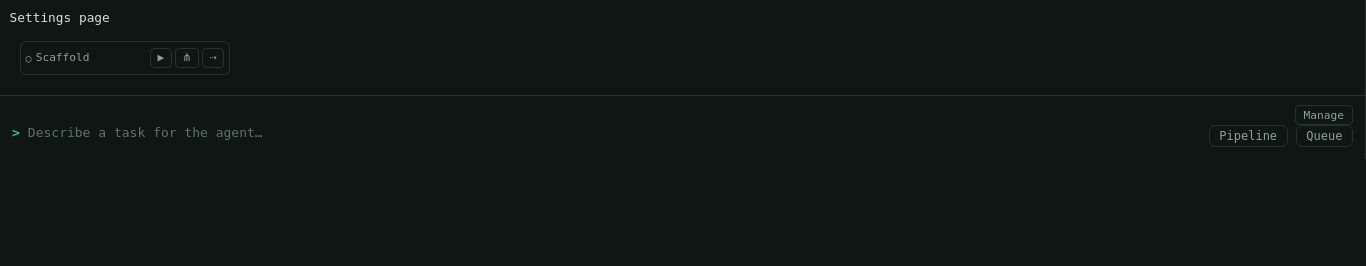
Scenario: Stream › fills the idle slot with the plan canvas once a plan exists
Check: the element named "Plan canvas" is shown, box [10,10,240,85]
Check: the element named "Composer" is shown, box [0,95,1365,159]
Click the button with aria-label "Trace Scaffold".
click(86, 58)  # box [25,52,147,64]
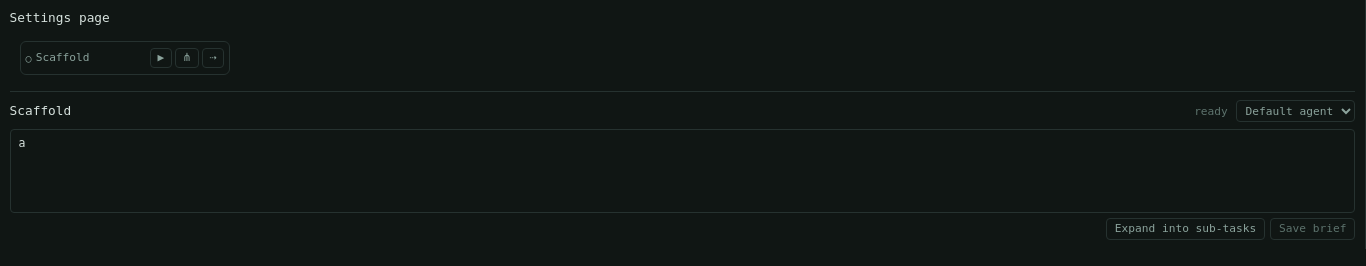
Check: the element named "Task details: Scaffold" is shown, box [10,91,1355,240]
Check: the field labelled "Composer" is gone
Click the button with aria-label "Trace Scaffold".
click(86, 58)  # box [25,52,147,64]
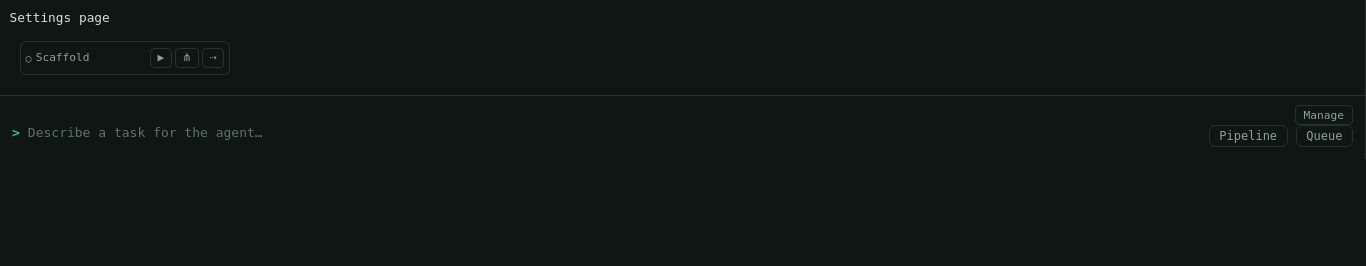
Check: the element named "Composer" is shown, box [0,95,1365,159]
